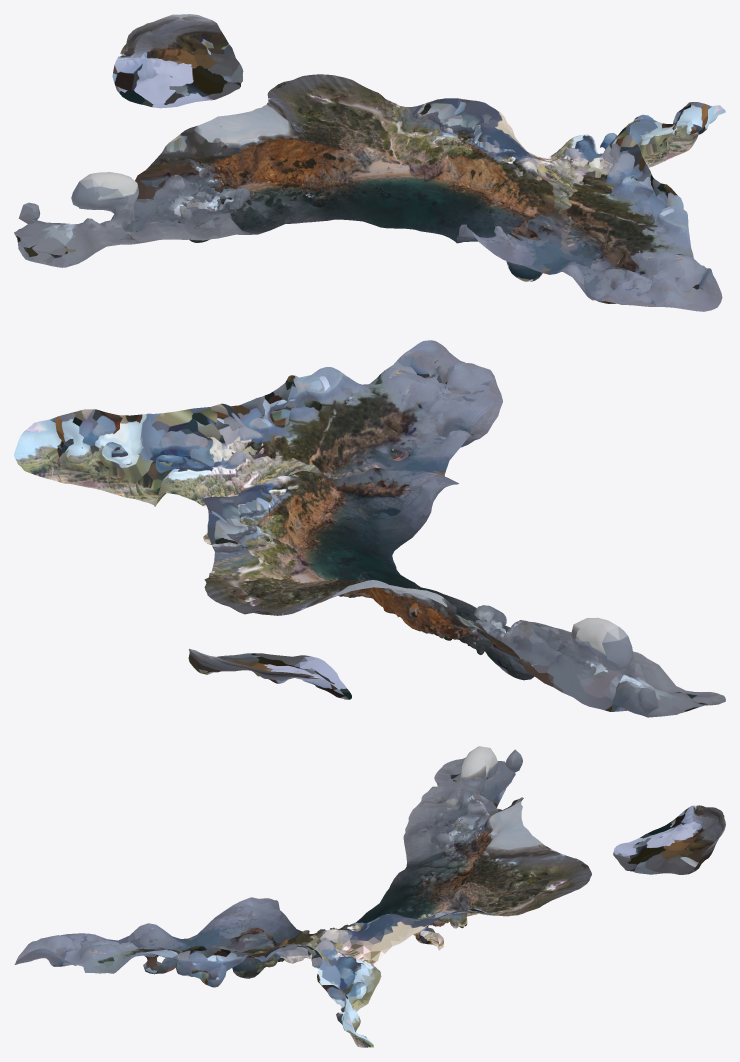
Rendered from beach.glb.
3 views of the same model, one above another, from view 1: azimuth 30°, elevation 25°; view 2: azimuth 150°, elevation 25°; view 3: azimuth 270°, elevation 25° (orthographic). The views are drawn at different scales.
Parts seen in each view (by area): view 1: mesh_out_node; view 2: mesh_out_node; view 3: mesh_out_node.
Boxes of the visible parts, left/top/right/bottom form: mesh_out_node: left=14, top=14, right=725, bottom=311; mesh_out_node: left=14, top=340, right=725, bottom=717; mesh_out_node: left=14, top=746, right=725, bottom=1047.
Size of the model in its own units: 370 by 58.02 by 369.
1 material, 1 textured.
